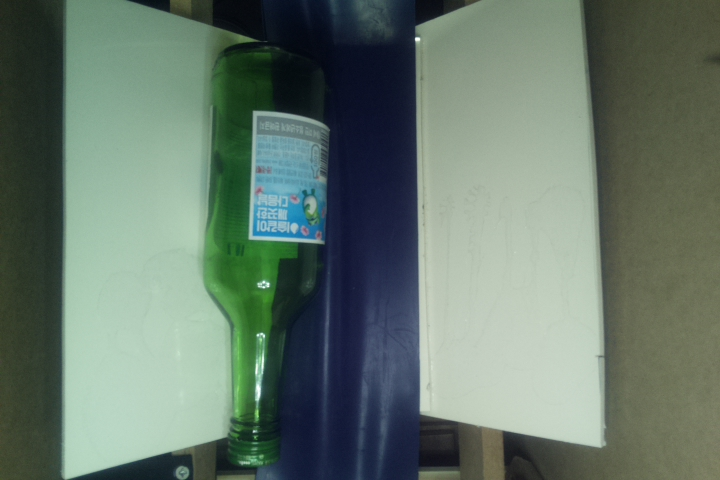soju: (199, 39, 334, 466)
